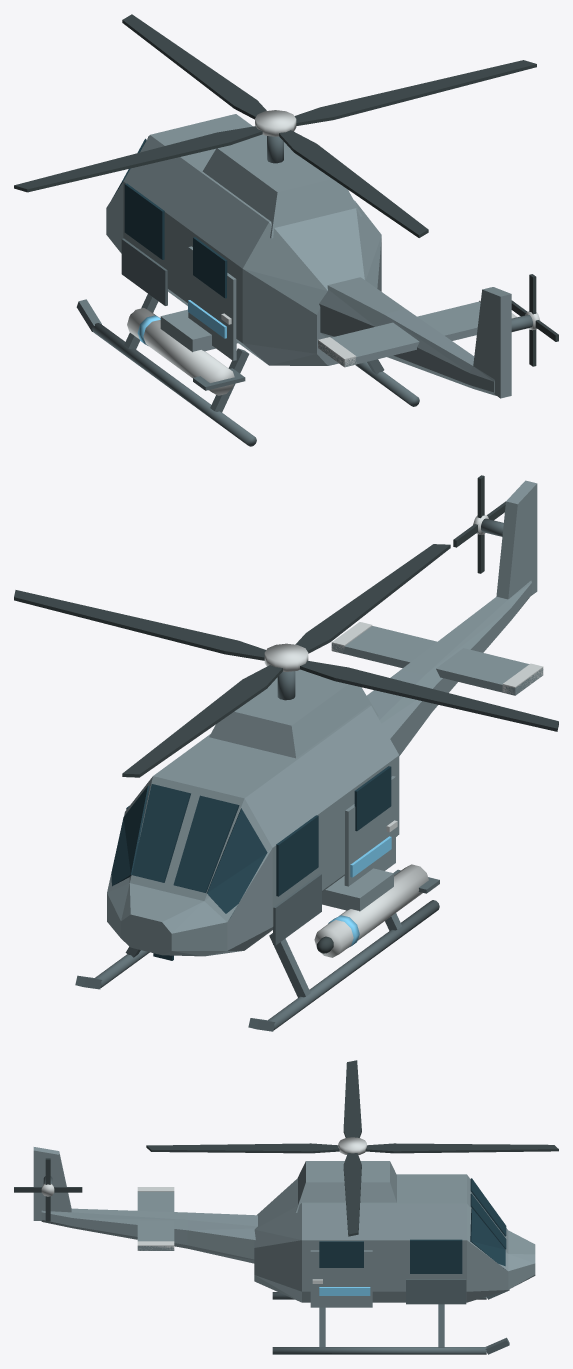
The model's file is HEL_EscortAsw_T1.fbx.
3 renders of one model, top to bottom at view 1: azimuth 30°, elevation 25°; view 2: azimuth 150°, elevation 25°; view 3: azimuth 270°, elevation 25°, orthographic. The views are drawn at different scales.
Parts seen in each view (by area): view 1: NavalCabin, UpperEngineCowling, TailBoom, HorizontalTailplane, TailFin, MainRotorBlade_03, MainRotorBlade_01, MainRotorBlade_04, MainRotorBlade_02, AirDroppedTorpedo, CabinDoor, SkidRail (+9 smaller); view 2: NavalCabin, UpperEngineCowling, TailBoom, HorizontalTailplane, TailFin, MainRotorBlade_03, MainRotorBlade_01, ForwardWindshield, ForwardWindshield.001, MainRotorBlade_02, MainRotorBlade_04, WraparoundCornerGlass (+10 smaller); view 3: NavalCabin, TailBoom, UpperEngineCowling, CabinDoor.001, PilotSideWindow.001, HorizontalTailplane, TailFin, SkidRail.001, MainRotorBlade_02, MainRotorBlade_04, PilotDoorLower.001, MainRotorBlade_01 (+7 smaller).
Boxes of the visible parts, x1,y1,x2,y2 form: NavalCabin: (106, 114, 381, 365); UpperEngineCowling: (202, 136, 361, 238); TailBoom: (319, 277, 496, 395); HorizontalTailplane: (318, 301, 480, 366); TailFin: (473, 287, 511, 398); MainRotorBlade_03: (14, 126, 262, 192); MainRotorBlade_01: (294, 60, 536, 125); MainRotorBlade_04: (279, 130, 428, 237); MainRotorBlade_02: (122, 14, 266, 119); AirDroppedTorpedo: (127, 308, 234, 395); CabinDoor: (188, 246, 236, 360); SkidRail: (92, 323, 256, 446); NavalCabin: (107, 705, 399, 956); UpperEngineCowling: (209, 669, 378, 758); TailBoom: (367, 580, 531, 755); HorizontalTailplane: (331, 626, 543, 695); TailFin: (496, 480, 537, 599); MainRotorBlade_03: (300, 660, 558, 731); MainRotorBlade_01: (14, 590, 265, 660); ForwardWindshield: (173, 795, 239, 892); ForwardWindshield.001: (132, 784, 190, 882); MainRotorBlade_02: (122, 665, 282, 777); MainRotorBlade_04: (295, 544, 450, 653); WraparoundCornerGlass: (207, 808, 267, 917); NavalCabin: (254, 1174, 535, 1302); TailBoom: (41, 1208, 257, 1263); UpperEngineCowling: (295, 1161, 396, 1212); CabinDoor.001: (310, 1250, 372, 1307); PilotSideWindow.001: (410, 1239, 462, 1273); HorizontalTailplane: (137, 1191, 174, 1250); TailFin: (33, 1147, 71, 1220); SkidRail.001: (272, 1347, 486, 1354); MainRotorBlade_02: (365, 1143, 558, 1153); MainRotorBlade_04: (146, 1143, 339, 1153); PilotDoorLower.001: (406, 1279, 466, 1304); MainRotorBlade_01: (343, 1153, 361, 1236).
Bounding box in the file's own units: 260 × 128 × 343.
